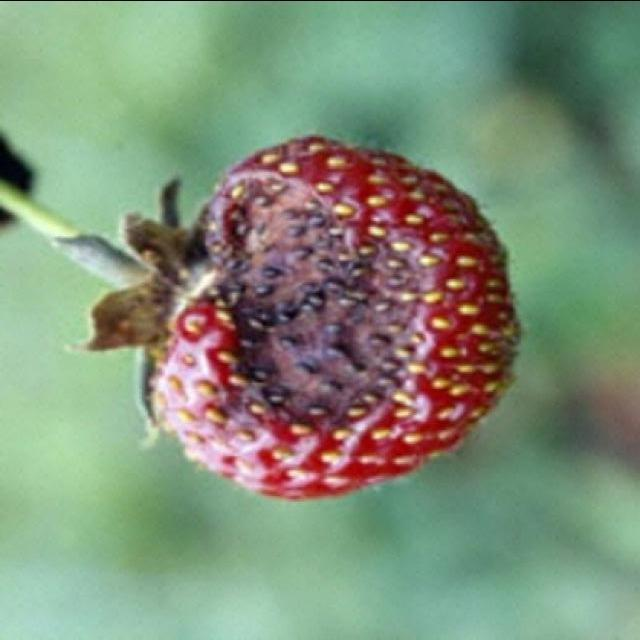Anthracnose Fruit Rot: (96, 132, 524, 503)
